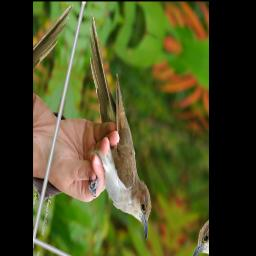Cuckoo: (54, 13, 187, 242)
